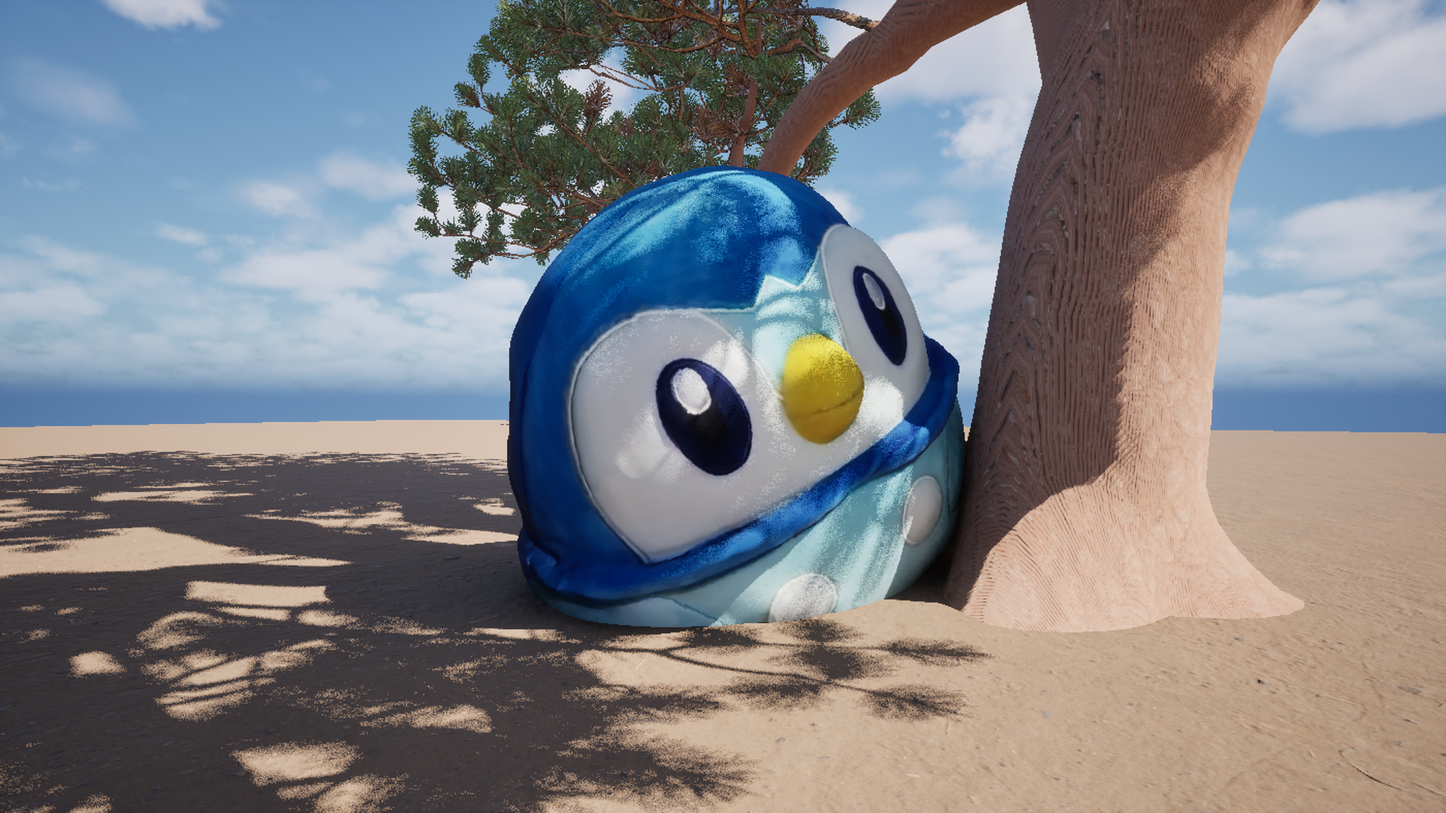Piplup: (107, 0, 1090, 813)
